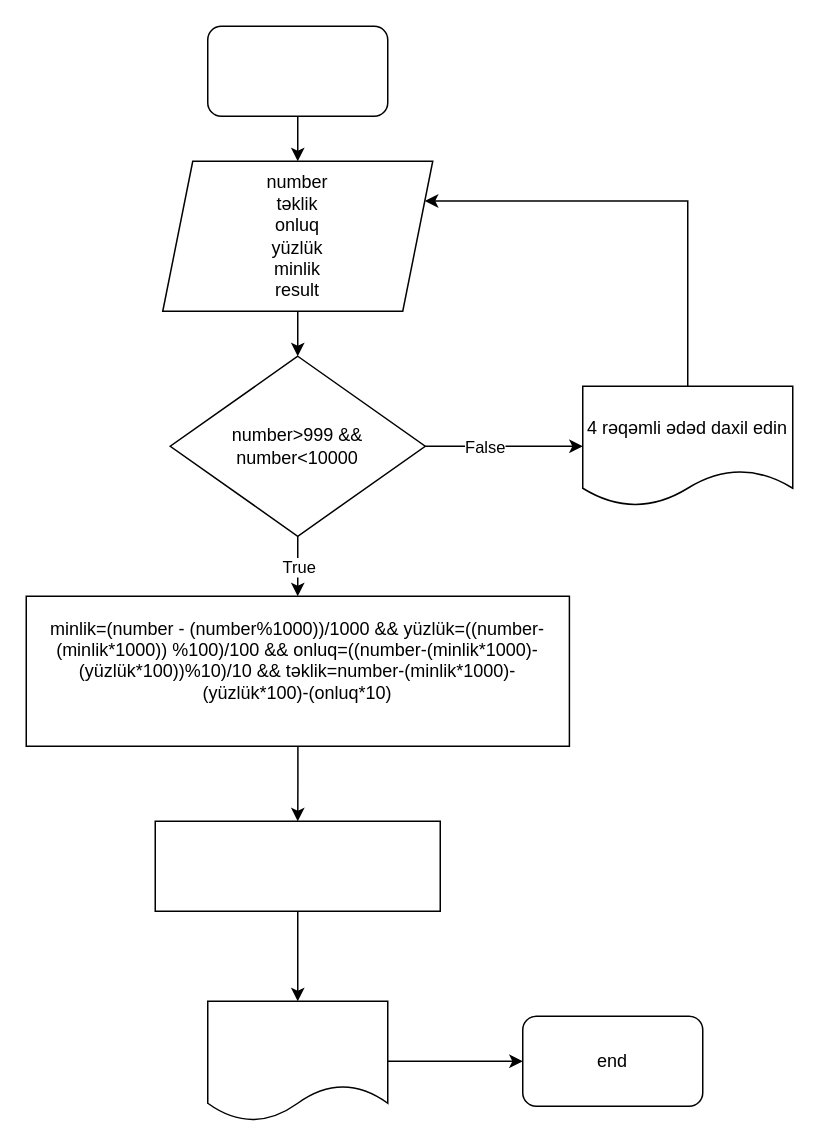
Image size: 819x1148. Some labels were removed from this diagram. The shapes that lost their labels are listed below. From the top down, each one's centre as x and y in pixels, then its label:
(x=297, y=70): Start
(x=297, y=865): result=minlik+yüzlük+onluq+təklik
(x=297, y=1060): result
